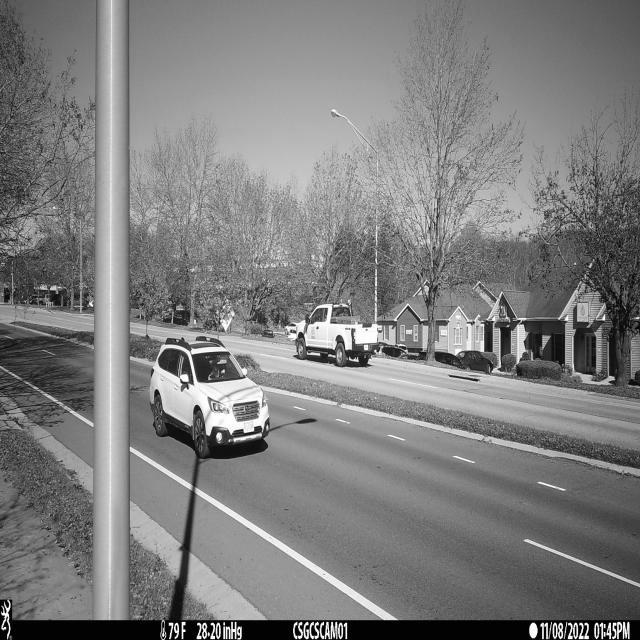SUV: (147, 336, 272, 460)
